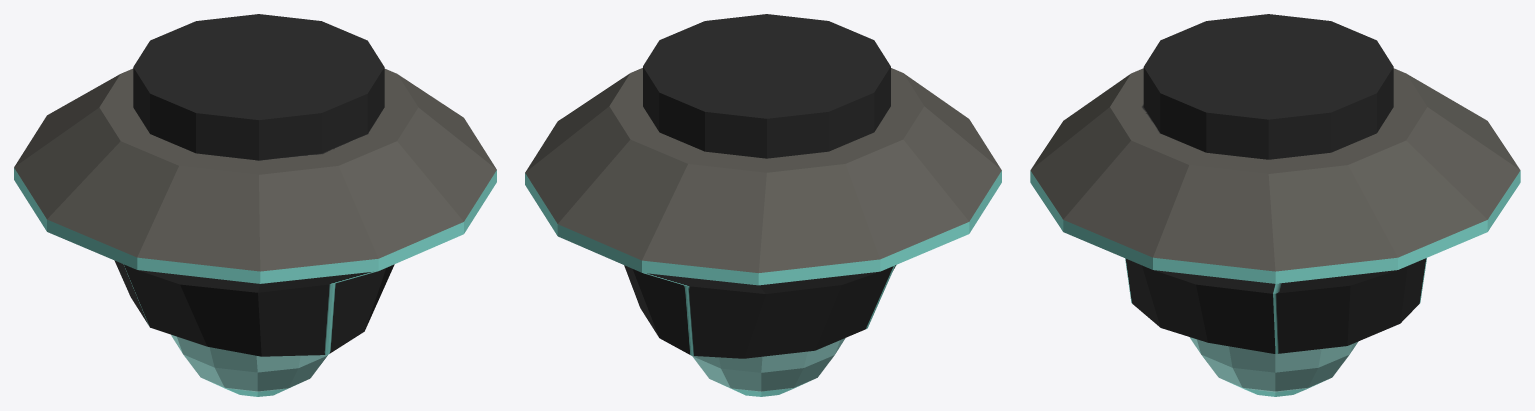
File: Pedestal.fbx
3 views of the same model, side by side, from view 1: azimuth 30°, elevation 25°; view 2: azimuth 150°, elevation 25°; view 3: azimuth 270°, elevation 25° (orthographic).
Parts seen in each view (by area): view 1: Circle; view 2: Circle; view 3: Circle.
Part boxes in pixels (x1,y1,x2,y2): Circle: [14, 14, 496, 396]; Circle: [525, 14, 1001, 396]; Circle: [1030, 14, 1520, 396].
Size of the model in its own units: 260 by 194 by 266.
1 material, 1 textured.
